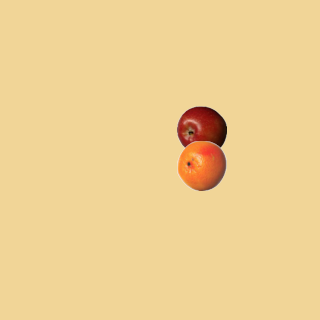Apple Braeburn: (176, 105, 226, 155)
Grapefruit Pink: (176, 140, 226, 190)
